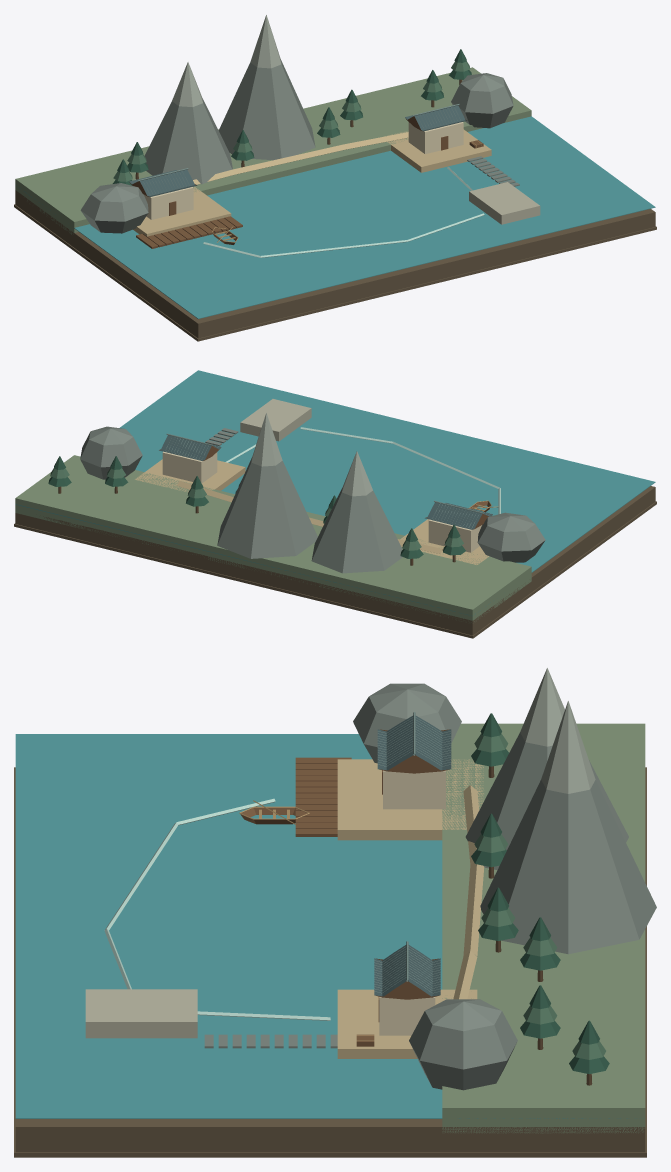
The model's file is tide-coast.obj.
3 views of the same model, one above another, from view 1: azimuth 30°, elevation 25°; view 2: azimuth 150°, elevation 25°; view 3: azimuth 270°, elevation 25° (orthographic). The views are drawn at different scales.
Visible parts, largest first — view 1: water, ground, details, architecture, vegetation, routes, roofs; view 2: ground, water, details, vegetation, architecture, roofs, routes; view 3: water, ground, details, vegetation, architecture, roofs, routes.
Boxes of the visible parts, x1,y1,x2,y2 form: water: [15, 116, 655, 318]; ground: [14, 67, 656, 341]; details: [80, 15, 519, 244]; architecture: [136, 122, 463, 248]; vegetation: [112, 49, 471, 185]; routes: [193, 132, 484, 257]; roofs: [129, 104, 467, 196]; ground: [14, 399, 656, 638]; water: [15, 370, 655, 616]; details: [80, 413, 545, 573]; vegetation: [48, 456, 465, 565]; architecture: [162, 451, 481, 552]; roofs: [159, 433, 492, 529]; routes: [177, 427, 500, 553]; water: [15, 734, 644, 1118]; ground: [14, 723, 646, 1157]; details: [204, 668, 656, 1090]; vegetation: [471, 713, 609, 1085]; architecture: [295, 757, 445, 1035]; roofs: [374, 712, 451, 999]; routes: [104, 785, 484, 1020].
Size of the model in its own units: 130 by 41.7 by 91.92.
